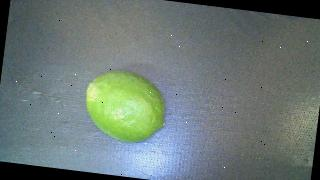EXPORTACION: (80, 67, 169, 146)
